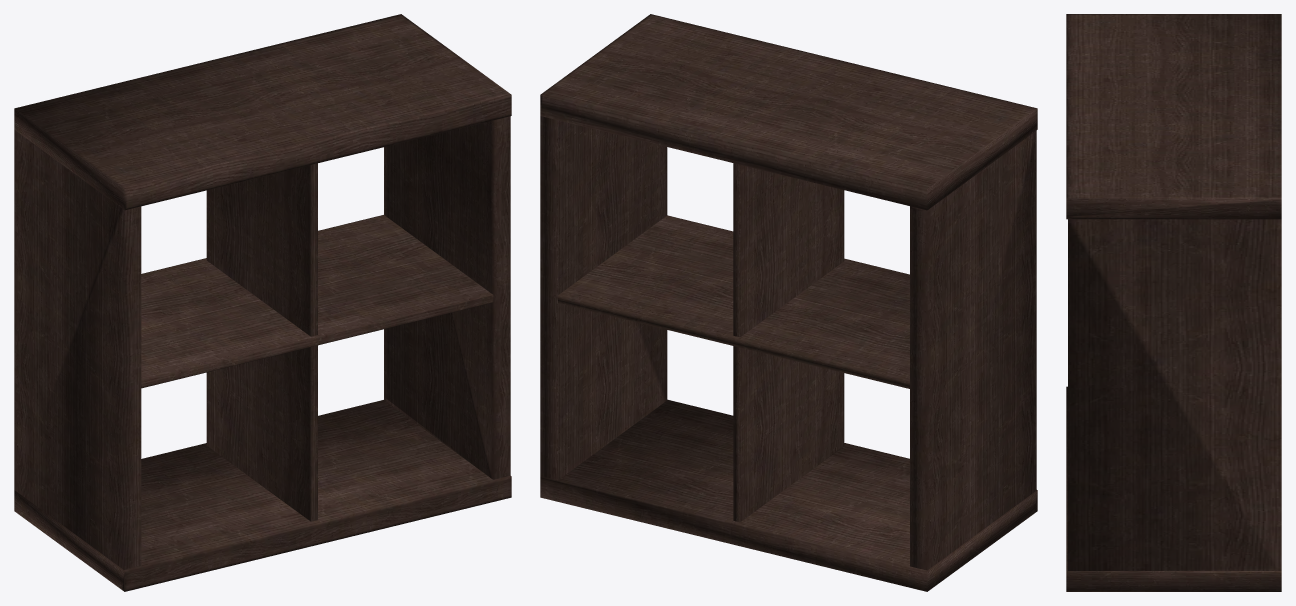
3 views of the same model, side by side, from view 1: azimuth 30°, elevation 25°; view 2: azimuth 150°, elevation 25°; view 3: azimuth 270°, elevation 25° (orthographic). The views are drawn at different scales.
Visible parts, largest first — view 1: B0754K96NJ; view 2: B0754K96NJ; view 3: B0754K96NJ.
Part boxes in pixels (x1,y1,x2,y2): B0754K96NJ: [14, 14, 511, 591]; B0754K96NJ: [540, 14, 1037, 591]; B0754K96NJ: [1066, 14, 1281, 591].
Size of the model in its own units: 0.7899 by 0.7859 by 0.3899.
Materials: 1 (1 with a texture image).
